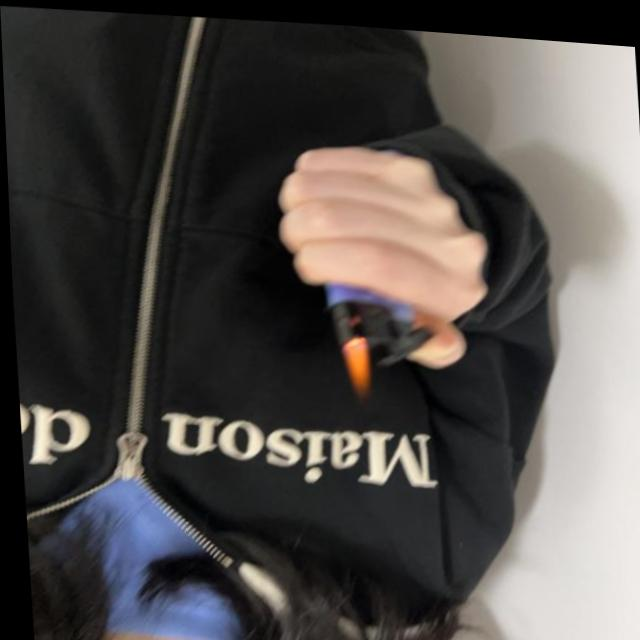Fire: (337, 329, 371, 397)
